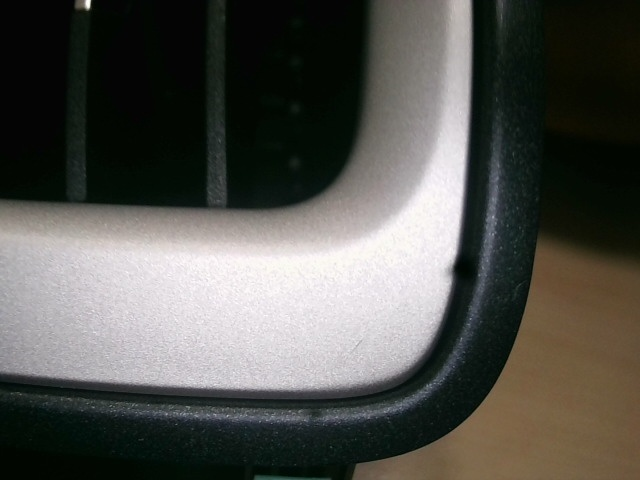NG: (347, 335, 372, 361), (507, 272, 525, 305)
